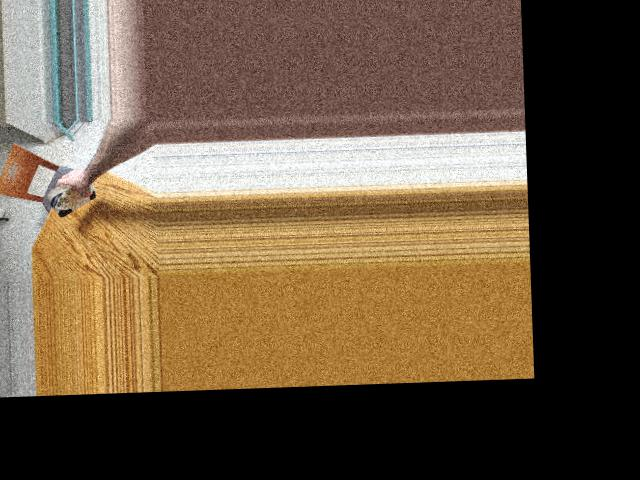cheese: (47, 169, 100, 217)
